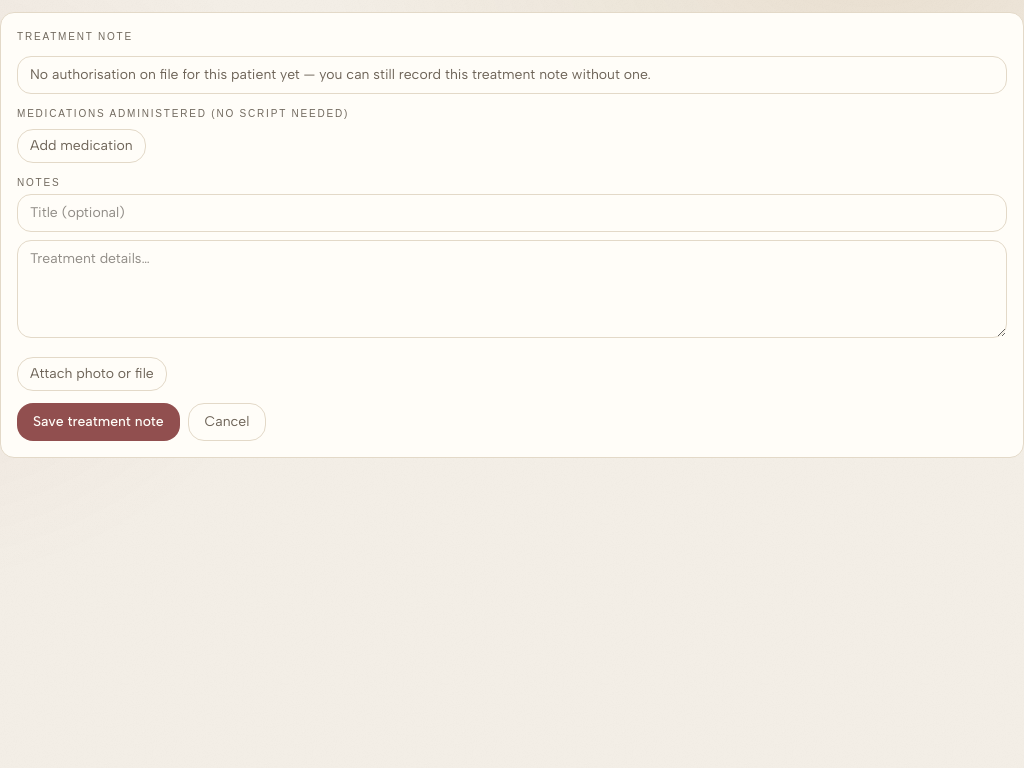
TreatmentNoteForm medication combobox › suggests catalog products matching the typed text
Click the button "Add medication": (81, 146) 17,129 -> 146,163
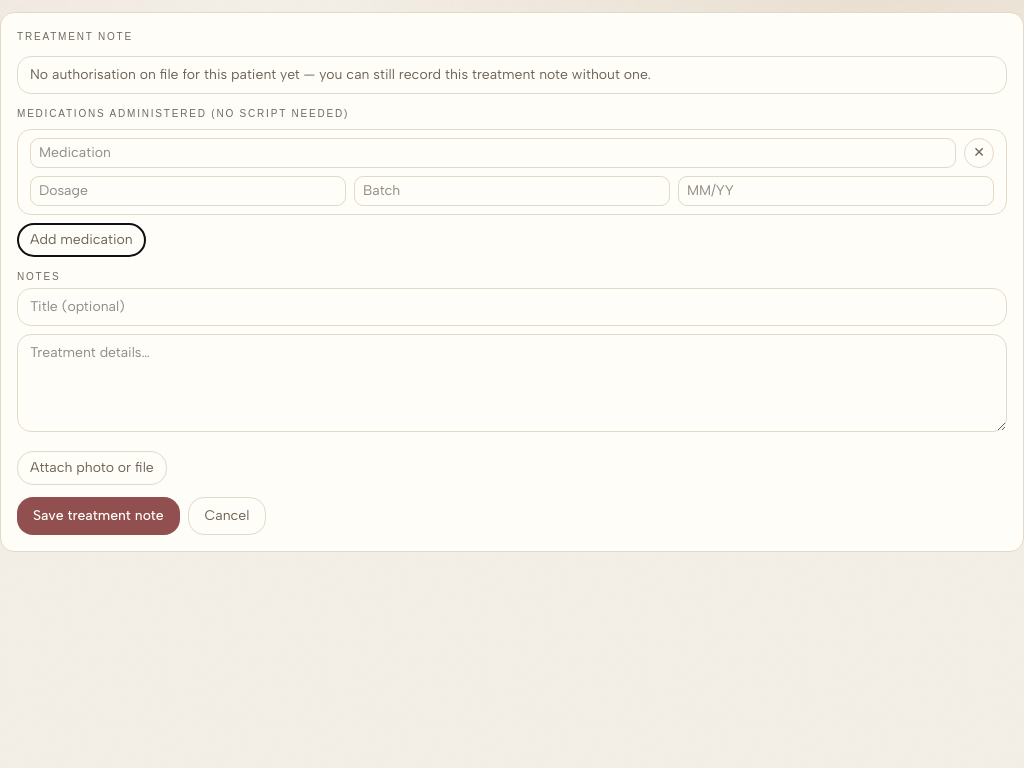
In the dropdown labelled "Medication": (493, 153) 30,138 -> 956,168, type "boto"
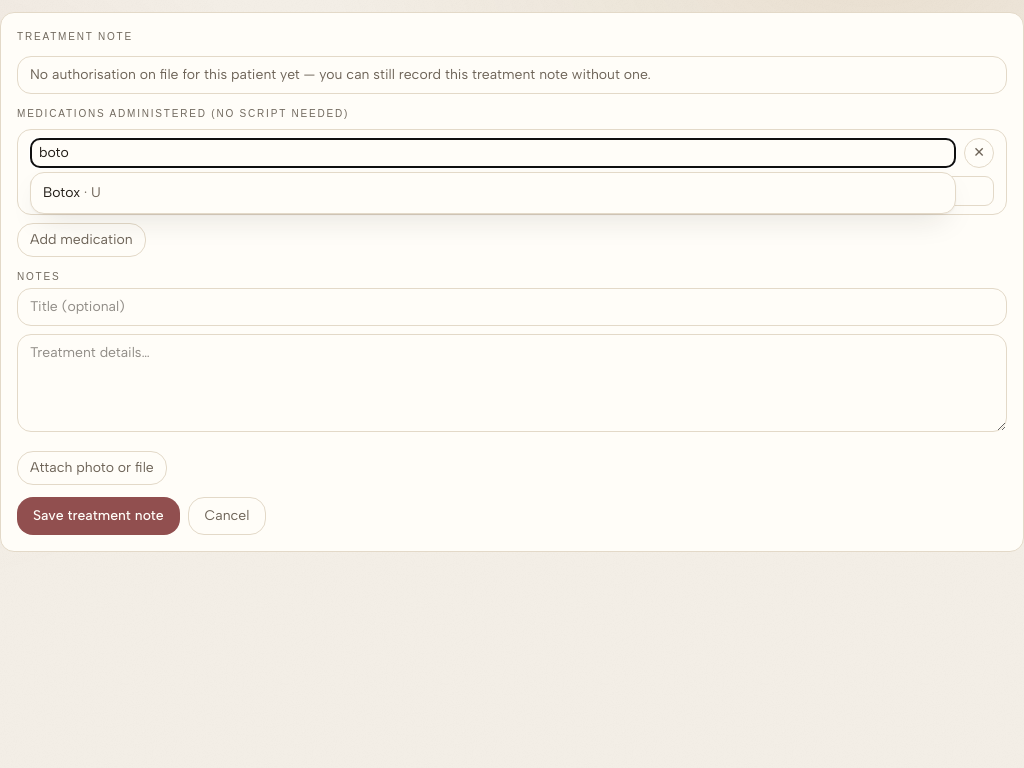
Expected: the option "Botox · U" is shown, 43,184 -> 101,201
